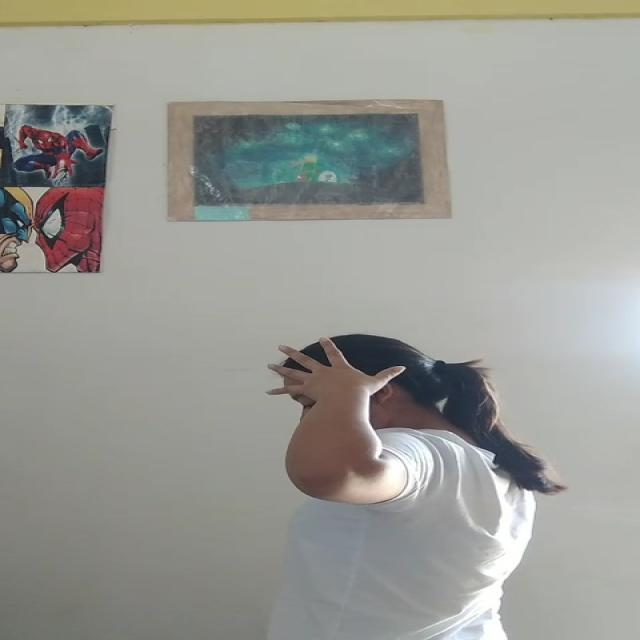7_mano_rostro: (264, 340, 401, 474)
